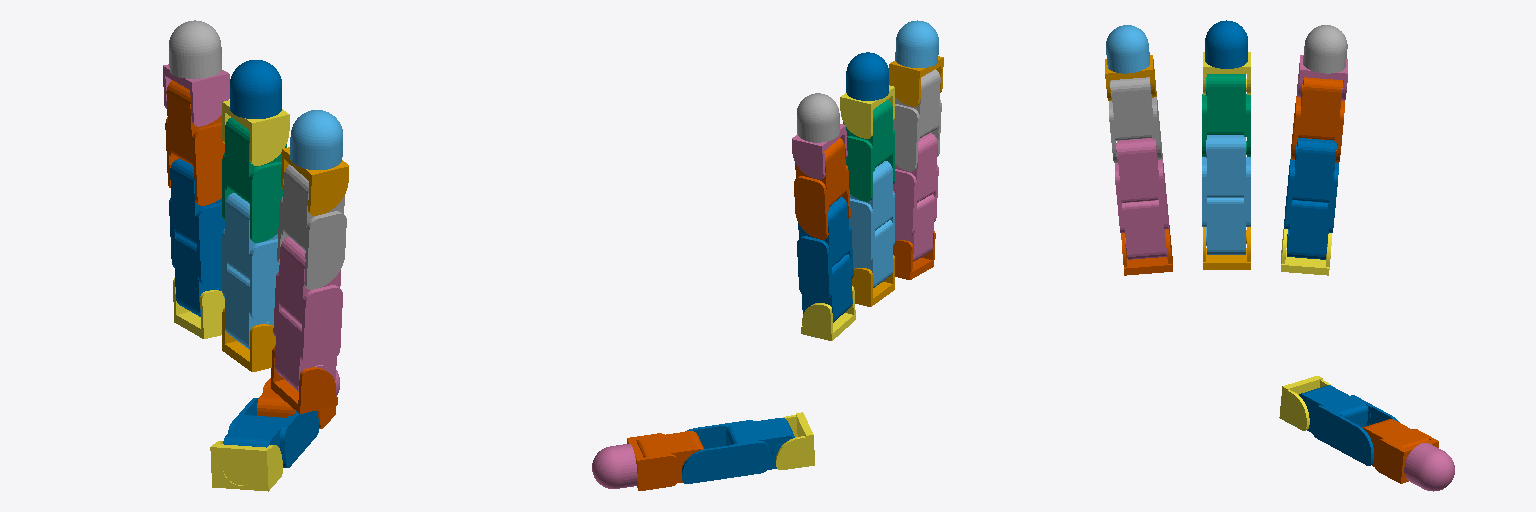
URDF robot description (allegro_right):
<?xml version='1.0' encoding='utf-8'?>
<robot name="allegro_right">
  <link name="base_link">
    <inertial>
      <mass value="0.4154" />
      <origin rpy="0 0 0" xyz="0 0 0" />
      <inertia ixx="1e-4" ixy="0" ixz="0" iyy="1e-4" iyz="0" izz="1e-4" />
    </inertial>
    <visual>
      <geometry>
        <mesh filename="meshes/visual/base_link.obj" />
      </geometry>
      <origin rpy="0 0 0" xyz="0 0 0 " />
    </visual>
    <collision>
      <origin rpy="0 0 0" xyz="-0.009 0.0 -0.023" />
      <geometry>
        <box size="0.0414 0.112 0.0448" />
      </geometry>
    </collision>
    <collision>
      <origin rpy="0 0 0" xyz="-0.009 -0.0253 -0.0667" />
      <geometry>
        <box size="0.0414 0.0538 0.0428" />
      </geometry>
    </collision>
    <collision>
      <origin rpy="0 0 0" xyz="-0.009300 -0.00557 -0.08874" />
      <geometry>
        <box size="0.0414 0.0720 0.013" />
      </geometry>
    </collision>
  </link> 
  <link name="palm" />
  <joint name="palm_joint" type="fixed">
    <parent link="base_link" />
    <child link="palm" />
    <origin rpy="0.00000 -0.00000 0.00000" xyz="0 0 -0.065" />
  </joint> 
  <link name="wrist" />
  <joint name="wrist_joint" type="fixed">
    <origin rpy="0 0 0" xyz="0 0 -0.03" />
    <parent link="palm" />
    <child link="wrist" />
  </joint>
  <link name="link_0_0">
    <visual>
      <geometry>
        <mesh filename="meshes/visual/link_0_0.obj" />
      </geometry>
    </visual>
    <collision>
      <geometry>
        <box size="0.0196 0.0275 0.0164" />
      </geometry>
      <origin rpy="0 0 0" xyz="0 0 0.0082" />
    </collision>
    <inertial>
      <mass value="0.0119" />
      <origin xyz="0 0 0" rpy="0 0 0" />
      <inertia ixx="1.01666658333e-06" ixy="0.0" ixz="0.0" iyy="6.47677333333e-07" iyz="0.0" izz="1.01666658333e-06" />
    </inertial>
  </link>
  <joint name="joint_0_0" type="revolute">
    <axis xyz="0 0 1" />
    <limit effort="10" lower="-0.47" upper="0.47" velocity="3.14" />
    <parent link="base_link" />
    <child link="link_0_0" />
    <origin rpy="-0.08726646255 0 0" xyz="0 0.0435 -0.001542" />
  </joint>
  <link name="link_1_0">
    <inertial>
      <mass value="0.065" />
      <origin xyz="0 0 0" rpy="0 0 0" />
      <inertia ixx="7.95654166667e-05" ixy="1.7199e-05" ixz="8.75875e-06" iyy="2.47088833333e-05" iyz="2.413125e-05" izz="7.95654166667e-05" />
    </inertial>
    <visual>
      <geometry>
        <mesh filename="meshes/visual/link_1_0.obj" />
      </geometry>
    </visual>
    <collision>
      <geometry>
        <box size="0.0196 0.0275 0.054" />
      </geometry>
      <origin rpy="0 0 0" xyz="0 0 0.027" />
    </collision>
  </link>
  <joint name="joint_1_0" type="revolute">
    <limit effort="10" lower="-0.196" upper="1.61" velocity="3.14" />
    <axis xyz="0 1 0" />
    <parent link="link_0_0" />
    <child link="link_1_0" />
    <origin xyz="0 0 0.0164" />
  </joint>
  <link name="link_2_0">
    <inertial>
      <mass value="0.0355" />
      <origin xyz="0 0 0" rpy="0 0 0" />
      <inertia ixx="2.63979183333e-05" ixy="6.67968e-06" ixz="4.783625e-06" iyy="1.34948516667e-05" iyz="9.372e-06" izz="2.63979183333e-05" />
    </inertial>
    <visual>
      <geometry>
        <mesh filename="meshes/visual/link_2_0.obj" />
      </geometry>
    </visual>
    <collision>
      <geometry>
        <box size="0.0196 0.0275 0.0384" />
      </geometry>
      <origin rpy="0 0 0" xyz="0 0 0.0192" />
    </collision>
  </link>
  <joint name="joint_2_0" type="revolute">
    <axis xyz="0 1 0" />
    <limit effort="10" lower="-0.174" upper="1.709" velocity="3.14" />
    <parent link="link_1_0" />
    <child link="link_2_0" />
    <origin xyz="0 0 0.054" />
  </joint>
  <link name="link_3_0">
    <visual>
      <geometry>
        <mesh filename="meshes/visual/link_3_0.obj" />
      </geometry>
    </visual>
    <collision>
      <geometry>
        <box size="0.0196 0.0269 0.022" />
      </geometry>
      <origin rpy="0 0 0" xyz="0 0 0.0047" />
    </collision>
    <inertial>
      <origin rpy="0 0 0" xyz="0 0 0.01335" />
      <mass value="0.02" />
      <inertia ixx="1e-5" ixy="0.0" ixz="0.0" iyy="2e-5" iyz="0.0" izz="2e-5" />
    </inertial>
  </link>
  <joint name="joint_3_0" type="revolute">
    <axis xyz="0 1 0" />
    <limit effort="10" lower="-0.227" upper="1.618" velocity="3.14" />
    <parent link="link_2_0" />
    <child link="link_3_0" />
    <origin xyz="0 0 0.0384" />
  </joint>
  <link name="link_3_0_tip">
    <inertial>
      <mass value="0.0168" />
      <origin xyz="0 0 0" rpy="0 0 0" />
      <inertia ixx="9.68e-07" ixy="0" ixz="0" iyy="9.68e-07" iyz="0" izz="9.68e-07" />
    </inertial>
    <visual>
      <origin rpy="0 0 0" xyz="0 0 -0.012" />
      <geometry>
        <mesh filename="meshes/visual/link_tip.obj" />
      </geometry>
    </visual>
    <collision>
      <origin rpy="0 0 0" xyz="0 0 -0.012" />
      <geometry>
        <mesh filename="meshes/collision/link_tip.obj" />
      </geometry>
    </collision>
  </link>
  <joint name="joint_3_0_tip" type="fixed">
    <parent link="link_3_0" />
    <child link="link_3_0_tip" />
    <origin rpy="0 0 0" xyz="0 0 0.0387" />
  </joint>
  <link name="link_4_0">
    <inertial>
      <mass value="0.005" />
      <origin xyz="0 0 0" />
      <inertia ixx="5.1458e-05" iyy="5.1458e-05" izz="6.125e-05" ixy="0" ixz="0" iyz="0" />
    </inertial>
    <visual>
      <geometry>
        <mesh filename="meshes/visual/link_0_0.obj" />
      </geometry>
    </visual>
    <collision>
      <geometry>
        <box size="0.0196 0.0275 0.0164" />
      </geometry>
      <origin rpy="0 0 0" xyz="0 0 0.0082" />
    </collision>
  </link>
  <joint name="joint_4_0" type="revolute">
    <axis xyz="0 0 1" />
    <limit effort="10" lower="-0.47" upper="0.47" velocity="3.14" />
    <parent link="base_link" />
    <child link="link_4_0" />
    <origin rpy="0.0 0 0" xyz="0 0 0.0007" />
  </joint>
  <link name="link_5_0">
    <inertial>
      <mass value="0.065" />
      <origin xyz="0 0 0" rpy="0 0 0" />
      <inertia ixx="7.95654166667e-05" ixy="1.7199e-05" ixz="8.75875e-06" iyy="2.47088833333e-05" iyz="2.413125e-05" izz="7.95654166667e-05" />
    </inertial>
    <visual>
      <geometry>
        <mesh filename="meshes/visual/link_1_0.obj" />
      </geometry>
    </visual>
    <collision>
      <geometry>
        <box size="0.0196 0.0275 0.054" />
      </geometry>
      <origin rpy="0 0 0" xyz="0 0 0.027" />
    </collision>
  </link>
  <joint name="joint_5_0" type="revolute">
    <limit effort="10" lower="-0.196" upper="1.61" velocity="3.14" />
    <axis xyz="0 1 0" />
    <parent link="link_4_0" />
    <child link="link_5_0" />
    <origin xyz="0 0 0.0164" />
  </joint>
  <link name="link_6_0">
    <inertial>
      <mass value="0.0355" />
      <origin xyz="0 0 0" rpy="0 0 0" />
      <inertia ixx="2.63979183333e-05" ixy="6.67968e-06" ixz="4.783625e-06" iyy="1.34948516667e-05" iyz="9.372e-06" izz="2.63979183333e-05" />
    </inertial>
    <visual>
      <geometry>
        <mesh filename="meshes/visual/link_2_0.obj" />
      </geometry>
    </visual>
    <collision>
      <geometry>
        <box size="0.0196 0.0275 0.0384" />
      </geometry>
      <origin rpy="0 0 0" xyz="0 0 0.0192" />
    </collision>
  </link>
  <joint name="joint_6_0" type="revolute">
    <axis xyz="0 1 0" />
    <limit effort="10" lower="-0.174" upper="1.709" velocity="3.14" />
    <parent link="link_5_0" />
    <child link="link_6_0" />
    <origin xyz="0 0 0.054" />
  </joint>
  <link name="link_7_0">
    <inertial>
      <mass value="0.0388" />
      <origin xyz="0 0 0" rpy="0 0 0" />
      <inertia ixx="3.29223173333e-05" ixy="8.042076e-06" ixz="5.2283e-06" iyy="1.47493026667e-5" iyz="1.1283525e-5" izz="3.29223173333e-05" />
    </inertial>
    <visual>
      <geometry>
        <mesh filename="meshes/visual/link_3_0.obj" />
      </geometry>
    </visual>
    <collision>
      <geometry>
        <box size="0.0196 0.0269 0.022" />
      </geometry>
      <origin rpy="0 0 0" xyz="0 0 0.0047" />
    </collision>
  </link>
  <joint name="joint_7_0" type="revolute">
    <axis xyz="0 1 0" />
    <limit effort="10" lower="-0.227" upper="1.618" velocity="3.14" />
    <parent link="link_6_0" />
    <child link="link_7_0" />
    <origin xyz="0 0 0.0384" />
  </joint>
  <link name="link_7_0_tip">
    <inertial>
      <mass value="0.0096" />
      <origin xyz="0 0 0" rpy="0 0 0" />
      <inertia ixx="4.701248e-06" ixy="1.255968e-06" ixz="1.2936e-06" iyy="3.649312e-06" iyz="1.7622e-06" izz="4.701248e-06" />
    </inertial>
    <visual>
      <origin rpy="0 0 0" xyz="0 0 -0.012" />
      <geometry>
        <mesh filename="meshes/visual/link_tip.obj" />
      </geometry>
    </visual>
    <collision>
      <origin rpy="0 0 0" xyz="0 0 -0.012" />
      <geometry>
        <mesh filename="meshes/collision/link_tip.obj" />
      </geometry>
    </collision>
  </link>
  <joint name="joint_7_0_tip" type="fixed">
    <parent link="link_7_0" />
    <child link="link_7_0_tip" />
    <origin rpy="0 0 0" xyz="0 0 0.0387" />
  </joint>
  <link name="link_8_0">
    <inertial>
      <mass value="0.005" />
      <origin xyz="0 0 0" />
      <inertia ixx="5.1458e-05" iyy="5.1458e-05" izz="6.125e-05" ixy="0" ixz="0" iyz="0" />
    </inertial>
    <visual>
      <geometry>
        <mesh filename="meshes/visual/link_0_0.obj" />
      </geometry>
    </visual>
    <collision>
      <geometry>
        <box size="0.0196 0.0275 0.0164" />
      </geometry>
      <origin rpy="0 0 0" xyz="0 0 0.0082" />
    </collision>
  </link>
  <joint name="joint_8_0" type="revolute">
    <axis xyz="0 0 1" />
    <limit effort="10" lower="-0.47" upper="0.47" velocity="3.14" />
    <parent link="base_link" />
    <child link="link_8_0" />
    <origin rpy="0.08726646255 0 0" xyz="0 -0.0435 -0.001542" />
  </joint>
  <link name="link_9_0">
    <inertial>
      <mass value="0.065" />
      <origin xyz="0 0 0" rpy="0 0 0" />
      <inertia ixx="7.95654166667e-05" ixy="1.7199e-05" ixz="8.75875e-06" iyy="2.47088833333e-05" iyz="2.413125e-05" izz="7.95654166667e-05" />
    </inertial>
    <visual>
      <geometry>
        <mesh filename="meshes/visual/link_1_0.obj" />
      </geometry>
    </visual>
    <collision>
      <geometry>
        <box size="0.0196 0.0275 0.054" />
      </geometry>
      <origin rpy="0 0 0" xyz="0 0 0.027" />
    </collision>
  </link>
  <joint name="joint_9_0" type="revolute">
    <limit effort="10" lower="-0.196" upper="1.61" velocity="3.14" />
    <axis xyz="0 1 0" />
    <parent link="link_8_0" />
    <child link="link_9_0" />
    <origin xyz="0 0 0.0164" />
  </joint>
  <link name="link_10_0">
    <inertial>
      <mass value="0.0355" />
      <origin xyz="0 0 0" rpy="0 0 0" />
      <inertia ixx="2.63979183333e-05" ixy="6.67968e-06" ixz="4.783625e-06" iyy="1.34948516667e-05" iyz="9.372e-06" izz="2.63979183333e-05" />
    </inertial>
    <visual>
      <geometry>
        <mesh filename="meshes/visual/link_2_0.obj" />
      </geometry>
    </visual>
    <collision>
      <geometry>
        <box size="0.0196 0.0275 0.0384" />
      </geometry>
      <origin rpy="0 0 0" xyz="0 0 0.0192" />
    </collision>
  </link>
  <joint name="joint_10_0" type="revolute">
    <axis xyz="0 1 0" />
    <limit effort="10" lower="-0.174" upper="1.709" velocity="3.14" />
    <parent link="link_9_0" />
    <child link="link_10_0" />
    <origin xyz="0 0 0.054" />
  </joint>
  <link name="link_11_0">
    <inertial>
      <mass value="0.0096" />
      <origin xyz="0 0 0" rpy="0 0 0" />
      <inertia ixx="4.701248e-06" ixy="1.255968e-06" ixz="1.2936e-06" iyy="3.649312e-06" iyz="1.7622e-06" izz="4.701248e-06" />
    </inertial>
    <visual>
      <geometry>
        <mesh filename="meshes/visual/link_3_0.obj" />
      </geometry>
    </visual>
    <collision>
      <geometry>
        <box size="0.0196 0.0269 0.022" />
      </geometry>
      <origin rpy="0 0 0" xyz="0 0 0.0047" />
    </collision>
  </link>
  <joint name="joint_11_0" type="revolute">
    <axis xyz="0 1 0" />
    <limit effort="10" lower="-0.227" upper="1.618" velocity="3.14" />
    <parent link="link_10_0" />
    <child link="link_11_0" />
    <origin xyz="0 0 0.0384" />
  </joint>
  <link name="link_11_0_tip">
    <inertial>
      <mass value="0.0168" />
      <origin xyz="0 0 0" rpy="0 0 0" />
      <inertia ixx="9.68e-07" ixy="0" ixz="0" iyy="9.68e-07" iyz="0" izz="9.68e-07" />
    </inertial>
    <visual>
      <origin rpy="0 0 0" xyz="0 0 -0.012" />
      <geometry>
        <mesh filename="meshes/visual/link_tip.obj" />
      </geometry>
    </visual>
    <collision>
      <origin rpy="0 0 0" xyz="0 0 -0.012" />
      <geometry>
        <mesh filename="meshes/collision/link_tip.obj" />
      </geometry>
    </collision>
  </link>
  <joint name="joint_11_0_tip" type="fixed">
    <parent link="link_11_0" />
    <child link="link_11_0_tip" />
    <origin rpy="0 0 0" xyz="0 0 0.0387" />
  </joint> 
  <link name="link_12_0">
    <inertial>
      <mass value="0.0176" />
      <origin xyz="0 0 0" rpy="0 0 0" />
      <inertia ixx="1.89273333333e-5" ixy="7.16716e-06" ixz="5.35568e-06" iyy="1.43008213333e-05" iyz="6.8068e-06" izz="1.89273333333e-05" />
    </inertial>
    <visual>
      <geometry>
        <mesh filename="meshes/visual/link_12_0_right.obj" />
      </geometry>
    </visual>
    <collision>
      <geometry>
        <box size="0.0358 0.034 0.0455" />
      </geometry>
      <origin rpy="0 0 0" xyz="-0.0179 0.009 0.0145" />
    </collision>
  </link>
  <joint name="joint_12_0" type="revolute">
    <axis xyz="-1 0 0" />
    <limit effort="10" lower="0.263" upper="1.396" velocity="3.14" />
    <parent link="base_link" />
    <child link="link_12_0" />
    <origin rpy="0 -1.65806278845 -1.5707963259" xyz="-0.0182 0.019333 -0.045987" />
  </joint>
  <link name="link_13_0">
    <inertial>
      <mass value="0.0119" />
      <origin xyz="0 0 0" rpy="0 0 0" />
      <inertia ixx="4.24250866667e-06" ixy="1.032087e-06" ixz="1.603525e-06" iyy="4.52362633333e-06" iyz="1.44808125e-06" izz="4.24250866667e-06" />
    </inertial>
    <visual>
      <geometry>
        <mesh filename="meshes/visual/link_13_0.obj" />
      </geometry>
    </visual>
    <collision>
      <geometry>
        <box size="0.0196 0.0275 0.0177" />
      </geometry>
      <origin rpy="0 0 0" xyz="0 0 0.00885" />
    </collision>
  </link>
  <joint name="joint_13_0" type="revolute">
    <axis xyz="0 0 1" />
    <limit effort="10" lower="-0.105" upper="1.163" velocity="3.14" />
    <parent link="link_12_0" />
    <child link="link_13_0" />
    <origin xyz="-0.027 0.005 0.0399" />
  </joint>
  <link name="link_14_0">
    <inertial>
      <mass value="0.038" />
      <origin xyz="0 0 0" rpy="0 0 0" />
      <inertia ixx="4.30439933333e-05" ixy="9.57068e-06" ixz="5.1205e-06" iyy="1.44451933333e-05" iyz="1.342825e-05" izz="4.30439933333e-05" />
    </inertial>
    <visual>
      <geometry>
        <mesh filename="meshes/visual/link_14_0.obj" />
      </geometry>
    </visual>
    <collision>
      <geometry>
        <box size="0.0196 0.0275 0.0514" />
      </geometry>
      <origin rpy="0 0 0" xyz="0 0 0.0257" />
    </collision>
  </link>
  <joint name="joint_14_0" type="revolute">
    <axis xyz="0 1 0" />
    <limit effort="10" lower="-0.189" upper="1.644" velocity="3.14" />
    <parent link="link_13_0" />
    <child link="link_14_0" />
    <origin xyz="0 0 0.0177" />
  </joint>
  <link name="link_15_0">
    <inertial>
      <mass value="0.0388" />
      <origin xyz="0 0 0" rpy="0 0 0" />
      <inertia ixx="3.29223173333e-05" ixy="8.042076e-06" ixz="5.2283e-06" iyy="1.47493026667e-5" iyz="1.1283525e-5" izz="3.29223173333e-05" />
    </inertial>
    <visual>
      <geometry>
        <mesh filename="meshes/visual/link_15_0.obj" />
      </geometry>
    </visual>
    <collision>
      <geometry>
        <box size="0.0196 0.0269 0.04" />
      </geometry>
      <origin rpy="0 0 0" xyz="0 0 0.01125" />
    </collision>
  </link>
  <joint name="joint_15_0" type="revolute">
    <axis xyz="0 1 0" />
    <limit effort="10" lower="-0.162" upper="1.719" velocity="3.14" />
    <parent link="link_14_0" />
    <child link="link_15_0" />
    <origin xyz="0 0 0.0514" />
  </joint>
  <link name="link_15_0_tip">
    <inertial>
      <mass value="0.0168" />
      <origin xyz="0 0 0" rpy="0 0 0" />
      <inertia ixx="9.68e-07" ixy="0" ixz="0" iyy="9.68e-07" iyz="0" izz="9.68e-07" />
    </inertial>
    <visual>
      <origin rpy="0 0 0" xyz="0 0 -0.012" />
      <geometry>
        <mesh filename="meshes/visual/link_tip.obj" />
      </geometry>
    </visual>
    <collision>
      <origin rpy="0 0 0" xyz="0 0 -0.012" />
      <geometry>
        <mesh filename="meshes/collision/link_tip.obj" />
      </geometry>
    </collision>
  </link>
  <joint name="joint_15_0_tip" type="fixed">
    <parent link="link_15_0" />
    <child link="link_15_0_tip" />
    <origin rpy="0 0 0" xyz="0 0 0.0543" />
  </joint>
</robot>

--- Facts derived from the render (not from the file) ---
The picture shows the robot from 3 angles, left to right: view 1: azimuth 30°, elevation 25°; view 2: azimuth 150°, elevation 25°; view 3: azimuth 270°, elevation 25°; orthographic projection.
Robot: allegro_right — 23 links, 22 joints (16 revolute, 6 fixed); root link base_link; default pose: joints at zero except 1 at the middle of their limits (joint_12_0 = 0.8295).
Links seen in each view (by area): view 1: link_9_0, link_5_0, link_1_0, link_10_0, link_6_0, link_2_0, link_14_0, link_13_0, link_11_0_tip, link_7_0_tip, link_3_0_tip, link_8_0 (+6 smaller); view 2: link_14_0, link_1_0, link_9_0, link_5_0, link_2_0, link_15_0, link_10_0, link_6_0, link_3_0_tip, link_7_0_tip, link_11_0_tip, link_15_0_tip (+7 smaller); view 3: link_1_0, link_9_0, link_5_0, link_14_0, link_2_0, link_10_0, link_6_0, link_15_0, link_15_0_tip, link_3_0_tip, link_7_0_tip, link_11_0_tip (+7 smaller).
Boxes of the visible links, box(x1,y1,x2,y2) form: link_9_0: box(273, 237, 342, 391); link_5_0: box(222, 193, 279, 349); link_1_0: box(169, 158, 224, 316); link_10_0: box(277, 165, 346, 289); link_6_0: box(222, 117, 286, 242); link_2_0: box(165, 80, 224, 205); link_14_0: box(223, 398, 318, 467); link_13_0: box(210, 441, 282, 491); link_11_0_tip: box(290, 110, 342, 169); link_7_0_tip: box(230, 60, 281, 118); link_3_0_tip: box(169, 20, 221, 78); link_8_0: box(271, 347, 337, 413); link_14_0: box(682, 418, 794, 483); link_1_0: box(797, 197, 853, 322); link_9_0: box(893, 133, 938, 261); link_5_0: box(849, 161, 894, 287); link_2_0: box(794, 138, 850, 239); link_15_0: box(627, 431, 703, 490); link_10_0: box(893, 69, 941, 171); link_6_0: box(843, 99, 894, 201); link_3_0_tip: box(797, 93, 839, 142); link_7_0_tip: box(846, 52, 888, 100); link_11_0_tip: box(895, 20, 938, 67); link_15_0_tip: box(592, 444, 637, 488); link_1_0: box(1284, 138, 1338, 259); link_9_0: box(1115, 138, 1168, 259); link_5_0: box(1202, 135, 1250, 254); link_14_0: box(1299, 385, 1399, 465); link_2_0: box(1291, 77, 1344, 162); link_10_0: box(1109, 77, 1162, 162); link_6_0: box(1202, 74, 1250, 156); link_15_0: box(1362, 419, 1438, 483); link_15_0_tip: box(1404, 443, 1454, 491); link_3_0_tip: box(1303, 25, 1347, 73); link_7_0_tip: box(1205, 20, 1247, 68); link_11_0_tip: box(1106, 25, 1149, 73).
Bounding box of the posed robot: 0.1208 × 0.1948 × 0.2416 m (x, y, z).
Meshes: 10 distinct files referenced, 19 mesh visuals loaded (8 OBJ); not drawn: 2 (reference not matched to a file when rendering).
